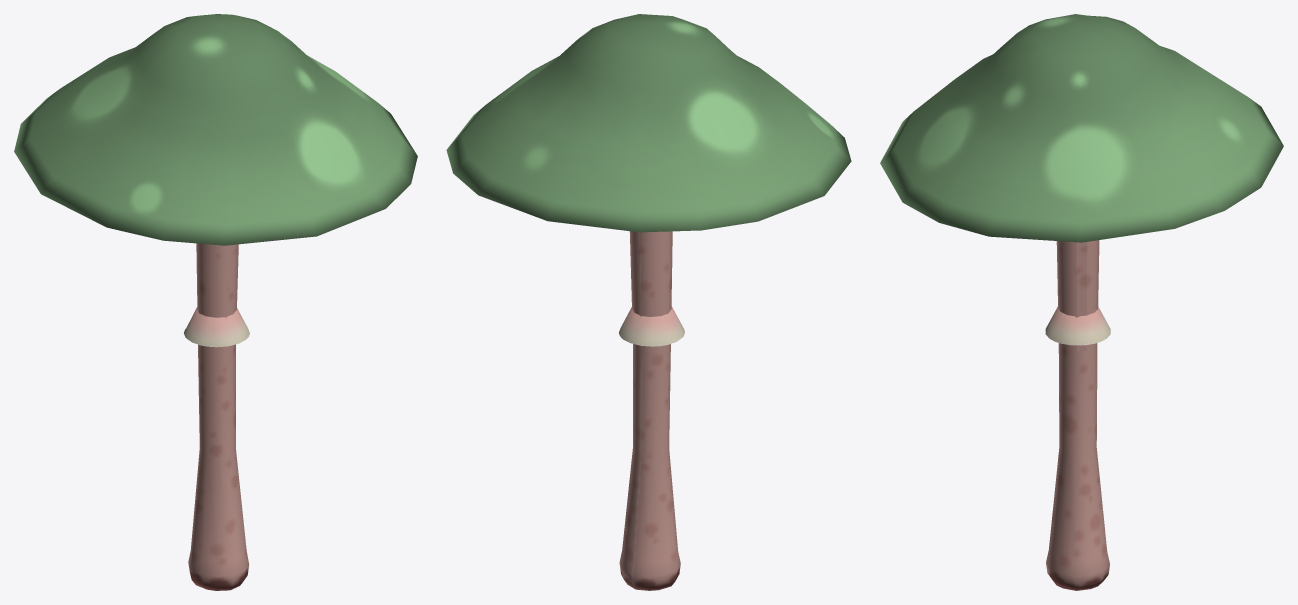
Rendered from Mushroom_12.fbx.
3 views of the same model, side by side, from view 1: azimuth 30°, elevation 25°; view 2: azimuth 150°, elevation 25°; view 3: azimuth 270°, elevation 25° (orthographic).
Visible parts, largest first — view 1: Mushroom_12; view 2: Mushroom_12; view 3: Mushroom_12.
Boxes of the visible parts, box(x1,y1,x2,y2) form: Mushroom_12: box(14, 14, 417, 590); Mushroom_12: box(446, 14, 851, 590); Mushroom_12: box(880, 14, 1283, 590).
Size of the model in its own units: 20.11 by 30.42 by 20.09.
1 material, 1 textured.
